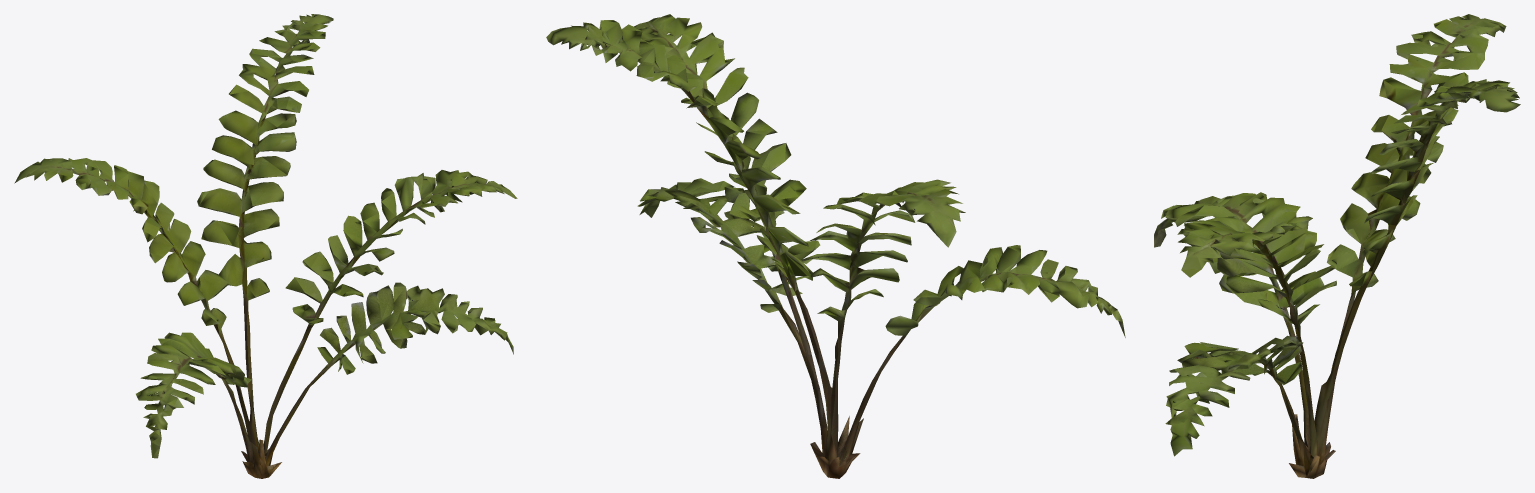
The model's file is forest_fern.glb.
The picture shows the model from 3 angles, left to right: view 1: azimuth 30°, elevation 25°; view 2: azimuth 150°, elevation 25°; view 3: azimuth 270°, elevation 25°; orthographic projection. The views are drawn at different scales.
Visible parts, largest first — view 1: lod0; view 2: lod0; view 3: lod0.
Part boxes in pixels (x1,y1,x2,y2): lod0: (14,14,517,478); lod0: (546,14,1125,478); lod0: (1154,14,1520,478).
Size of the model in its own units: 0.6 by 0.5631 by 0.4081.
1 material, 1 textured.
